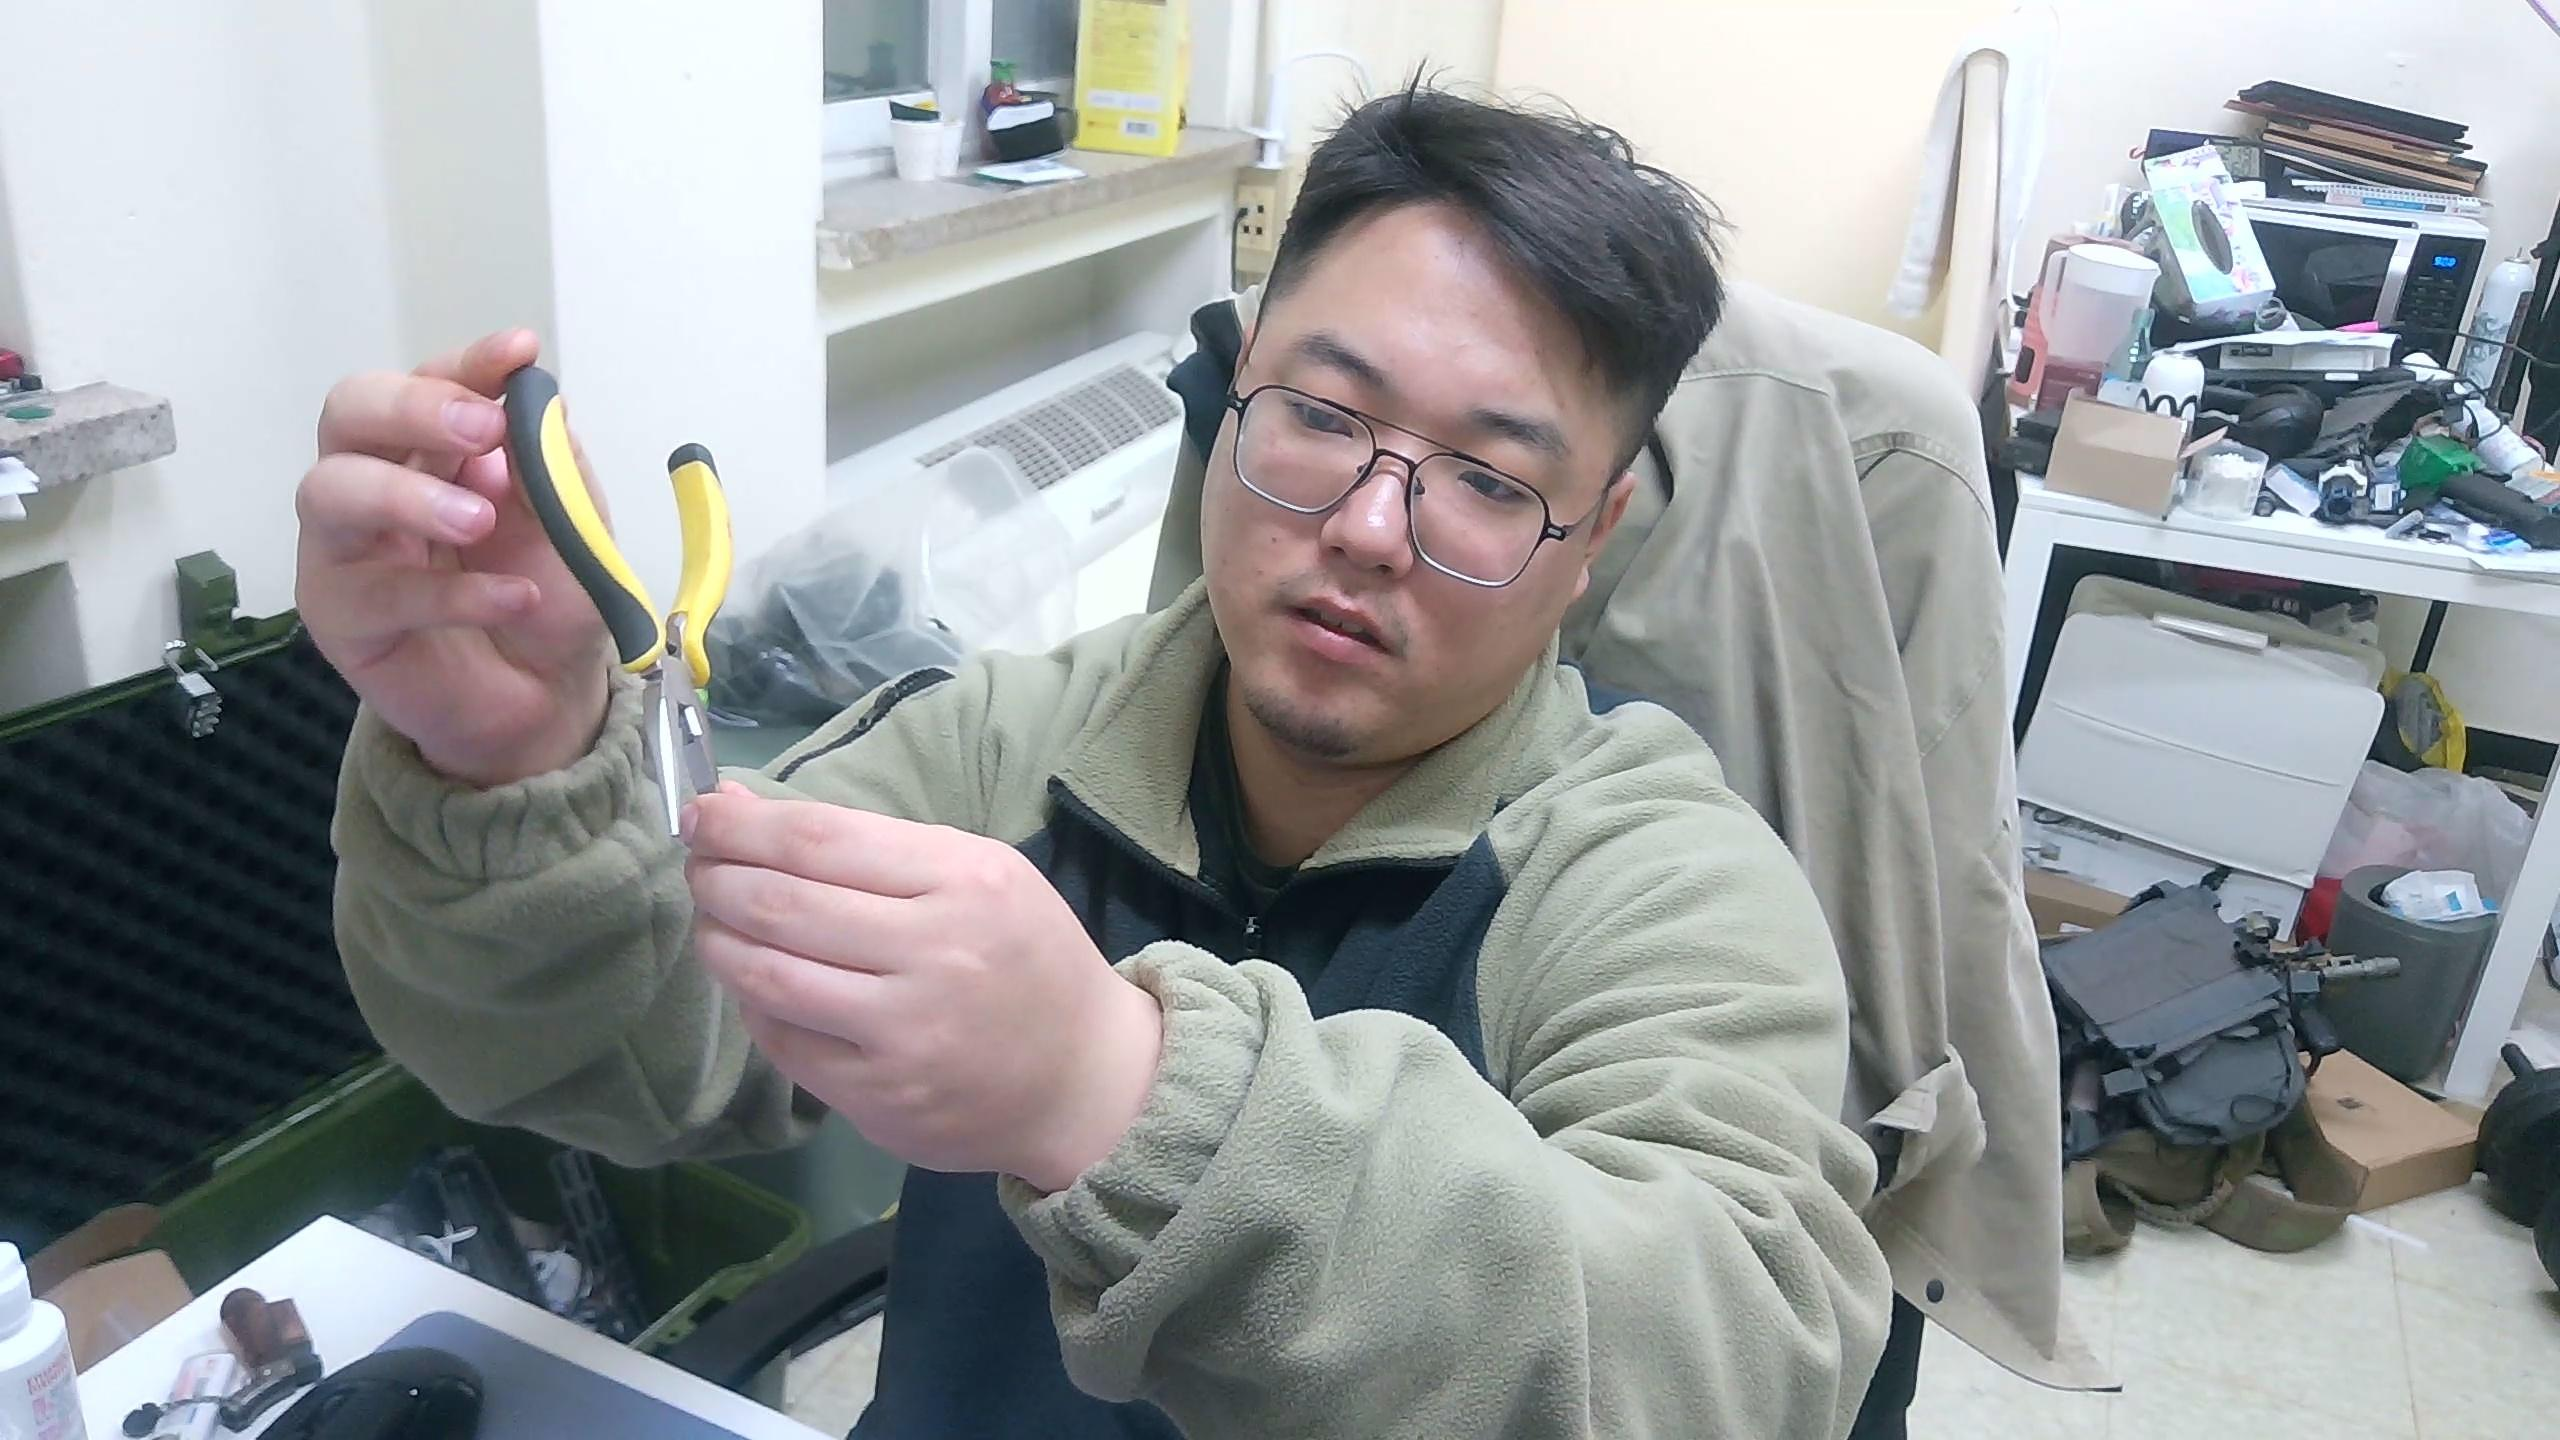earphone: (498, 359, 737, 844)
